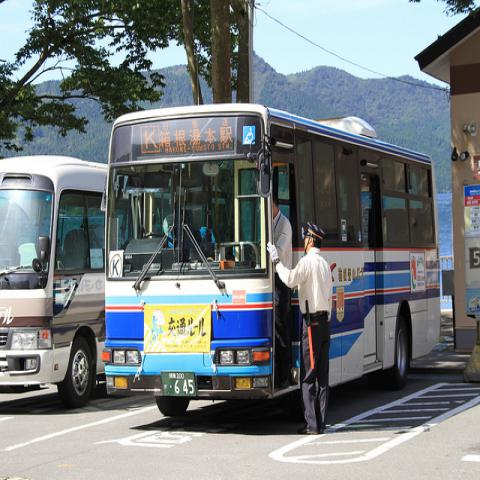bus: (105, 101, 441, 419), (2, 153, 110, 407)
